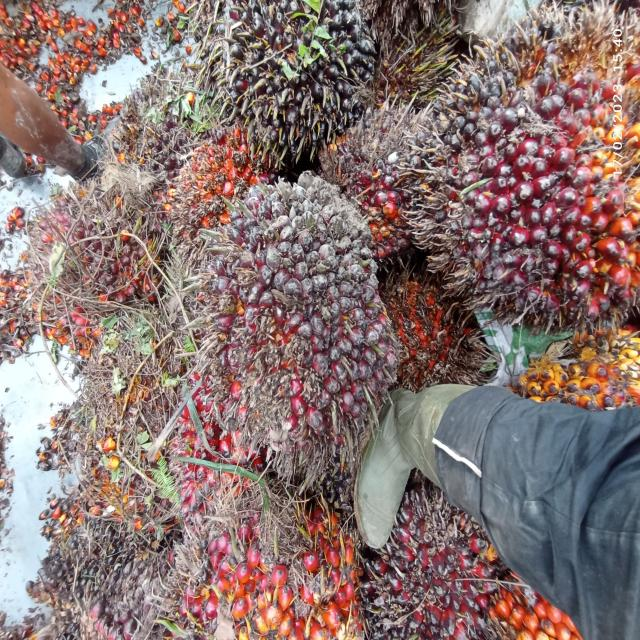fraksi 00: (209, 0, 373, 166), (19, 501, 150, 640)
fraksi 1: (395, 13, 640, 350), (170, 169, 406, 481)
fraksi 3: (192, 476, 355, 640)
fraksi 4: (385, 258, 464, 380)
